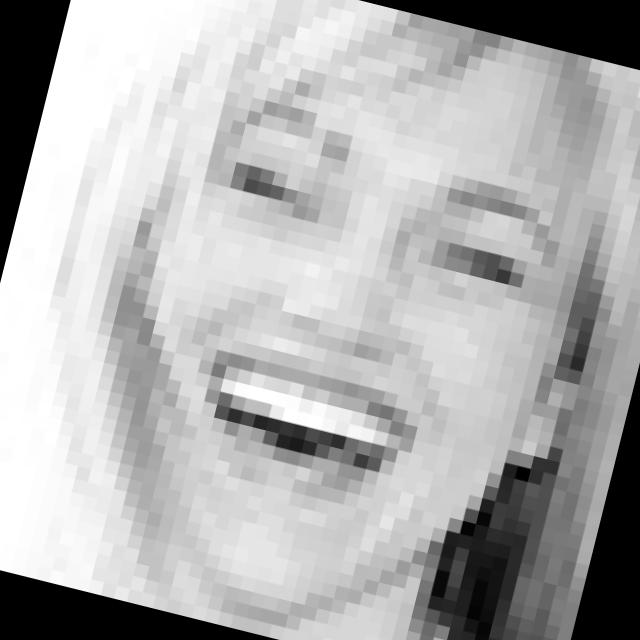happy: (119, 84, 582, 567)
